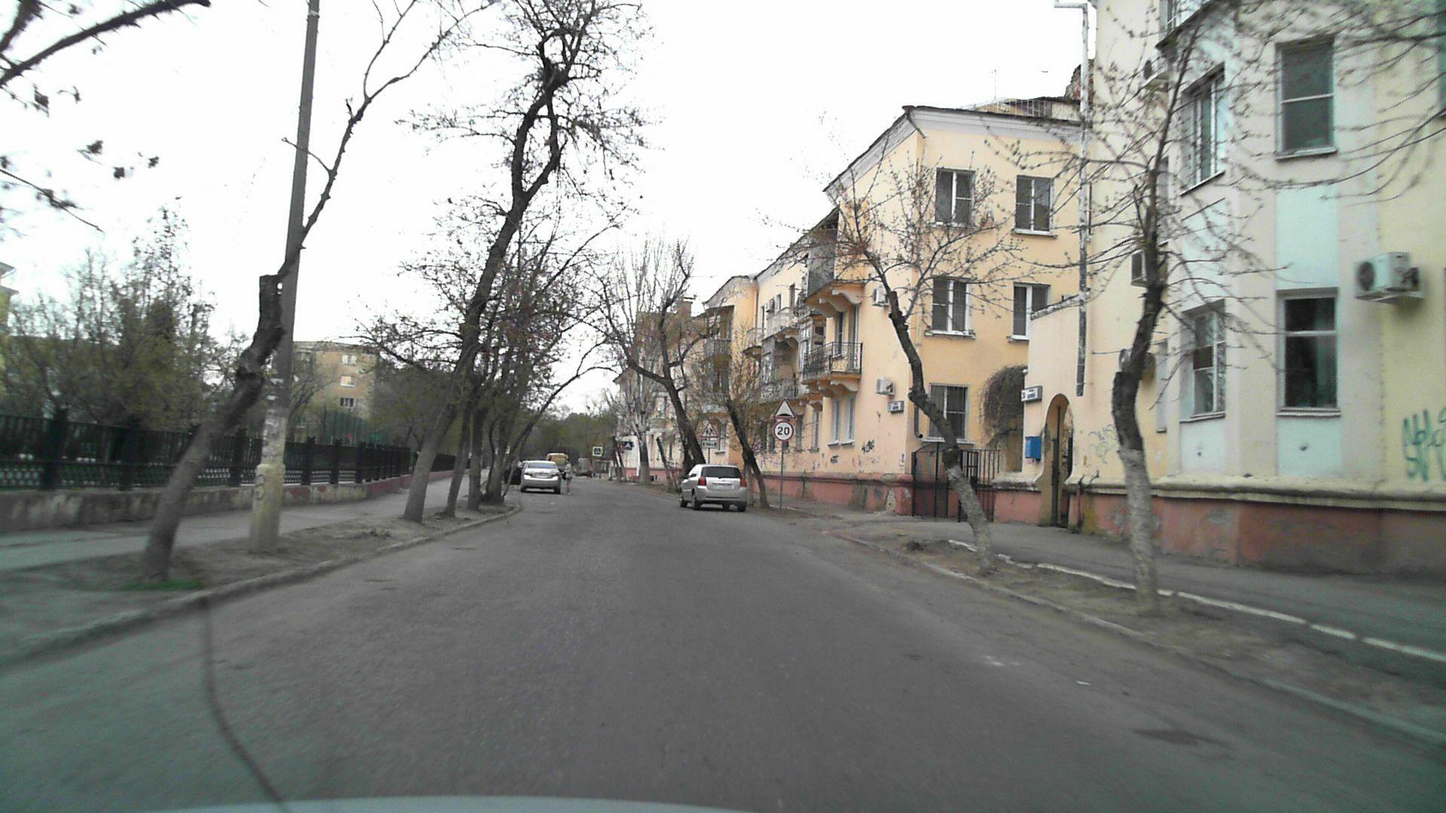road_sign: (770, 395, 800, 420), (773, 419, 794, 443)
